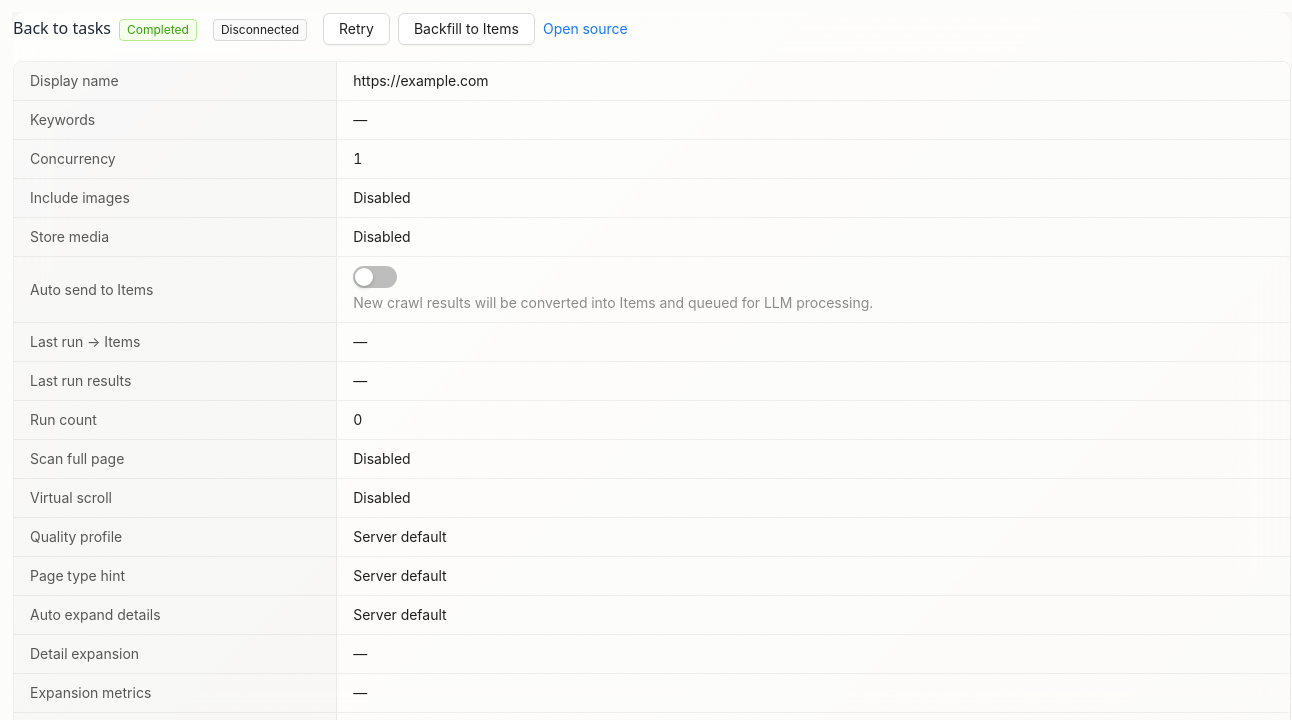
CrawlTaskDetail actions（retry / ingest / backfill / create item） › backfill 无缺失结果：info notice『全部已在 Items』
Expected: the text "Concurrency" is shown, [30,150,116,167]
Click the button "Backfill to Items" at (466, 29), box [398,13,535,45]
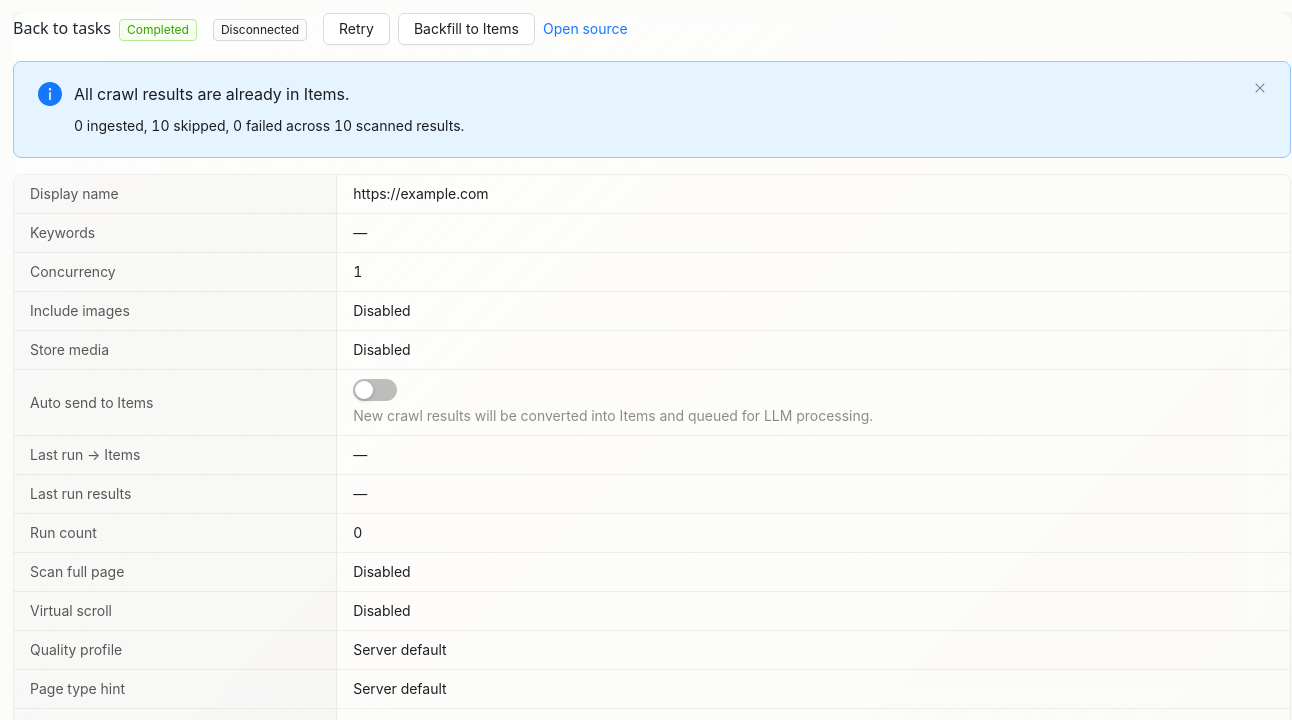
Result: the text "All crawl results are already in Items." is shown at [74,84,349,104]
